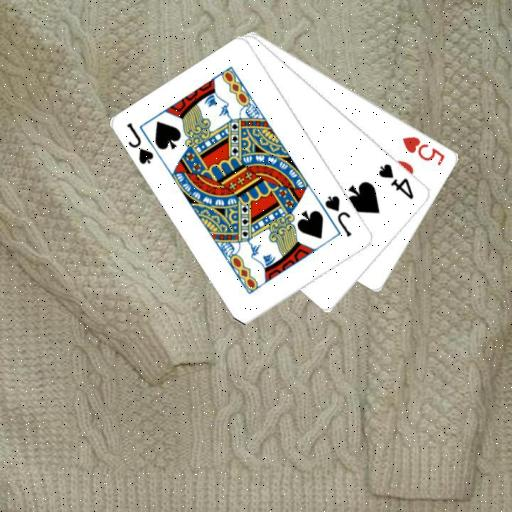4S: (376, 161, 416, 201)
5H: (400, 133, 448, 167)
JS: (124, 120, 156, 167), (322, 192, 354, 238)
